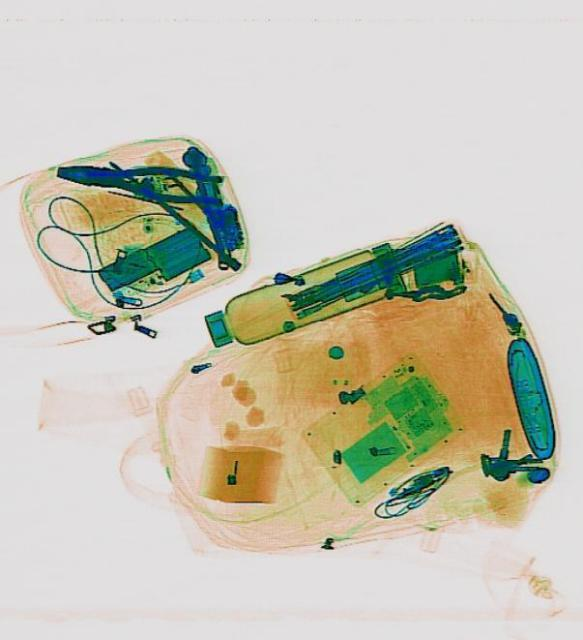Pliers: (53, 153, 225, 205)
